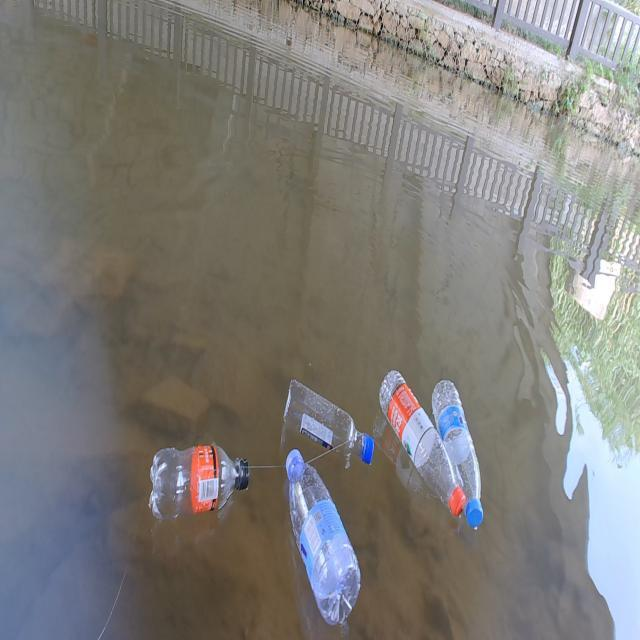bottle: (280, 447, 366, 629), (372, 364, 464, 514), (431, 369, 494, 530), (144, 436, 258, 519), (277, 375, 378, 468)
